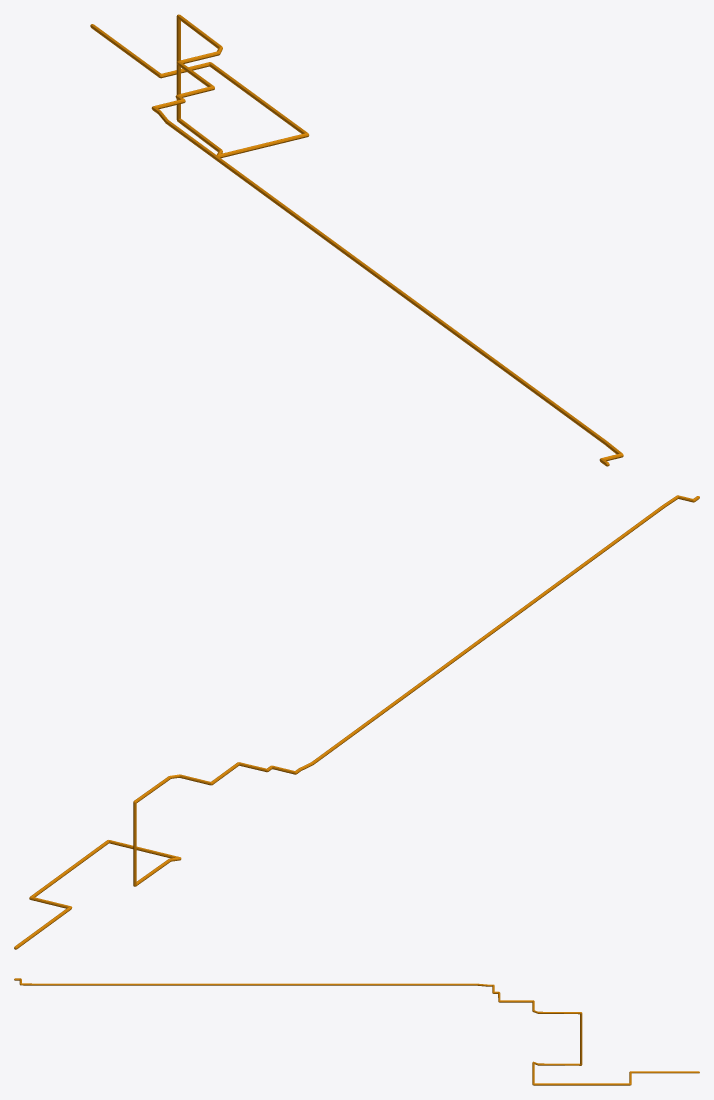
3 views of the same model, one above another, from view 1: azimuth 30°, elevation 25°; view 2: azimuth 150°, elevation 25°; view 3: azimuth 270°, elevation 25° (orthographic). The views are drawn at different scales.
Bounding box in the file's own units: 1124 × 520 × 6018.
